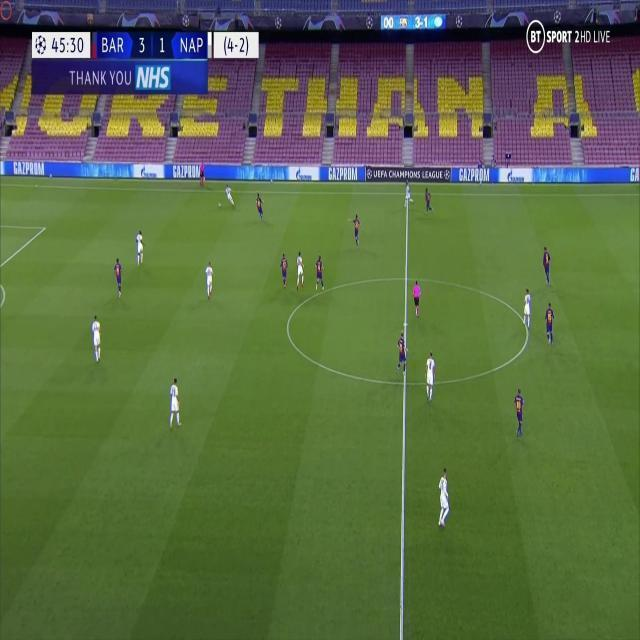ball: (217, 200, 222, 207)
player: (436, 465, 452, 530), (167, 375, 182, 430), (512, 387, 527, 439), (394, 329, 409, 378), (424, 348, 437, 402), (90, 311, 103, 362), (543, 300, 556, 347), (112, 256, 125, 299), (313, 252, 326, 293), (541, 244, 553, 286), (204, 259, 216, 300), (348, 213, 362, 248), (295, 250, 306, 291), (522, 286, 532, 330), (134, 228, 145, 267), (279, 251, 290, 290), (255, 191, 265, 221), (424, 185, 434, 214), (403, 179, 413, 207), (224, 182, 234, 208)
referee: (411, 277, 422, 318), (198, 158, 206, 189)
